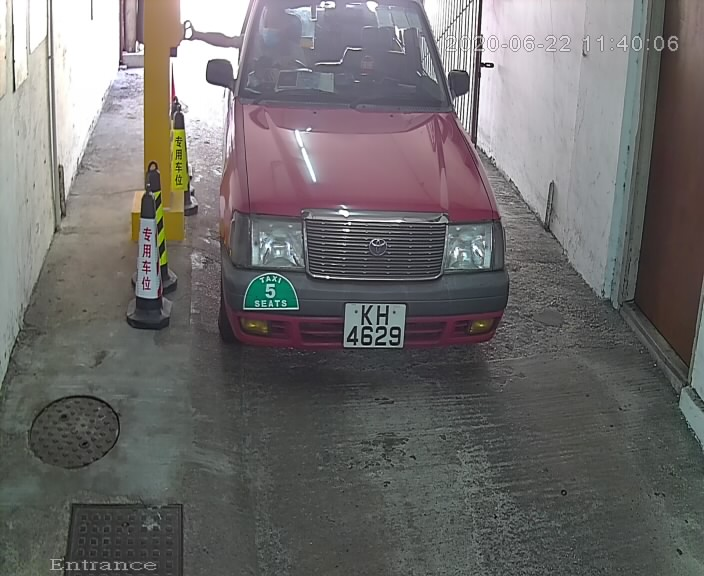taxi: (184, 1, 565, 414)
taxi_mark: (234, 263, 309, 325)
